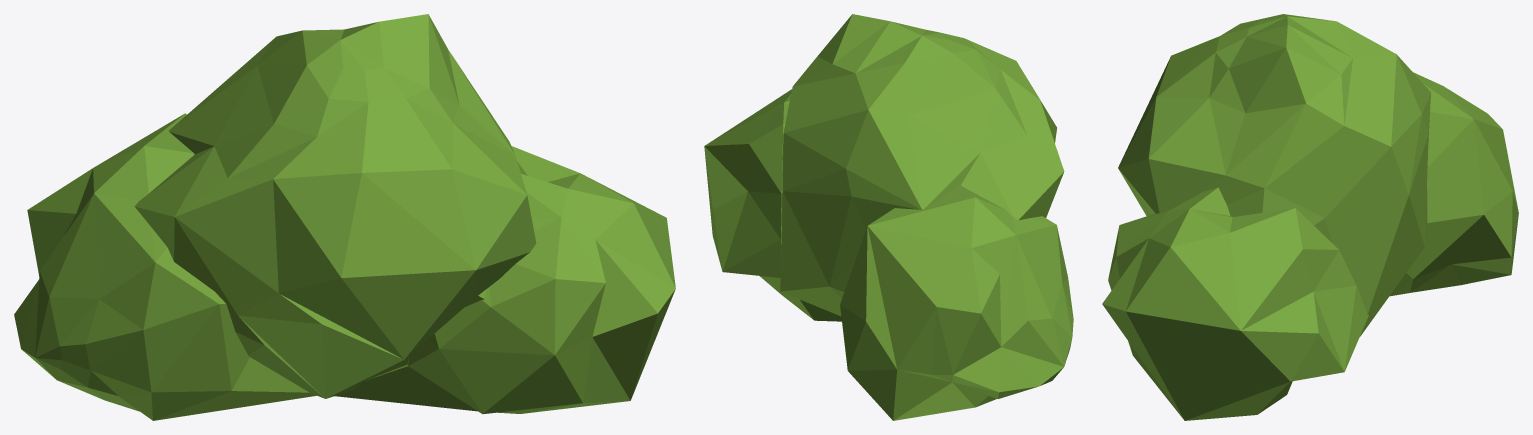
Rendered from bush.glb.
The picture shows the model from 3 angles, left to right: view 1: azimuth 30°, elevation 25°; view 2: azimuth 150°, elevation 25°; view 3: azimuth 270°, elevation 25°; orthographic projection. The views are drawn at different scales.
Visible parts, largest first — view 1: node_MeshObject-1087640768-PolyPaper9; view 2: node_MeshObject-1087640768-PolyPaper9; view 3: node_MeshObject-1087640768-PolyPaper9.
Part boxes in pixels (<box>): node_MeshObject-1087640768-PolyPaper9: <box>14,14,675,420</box>; node_MeshObject-1087640768-PolyPaper9: <box>704,14,1073,420</box>; node_MeshObject-1087640768-PolyPaper9: <box>1102,14,1518,420</box>.
Bounding box in the file's own units: 2.61 × 1.83 × 2.09.
